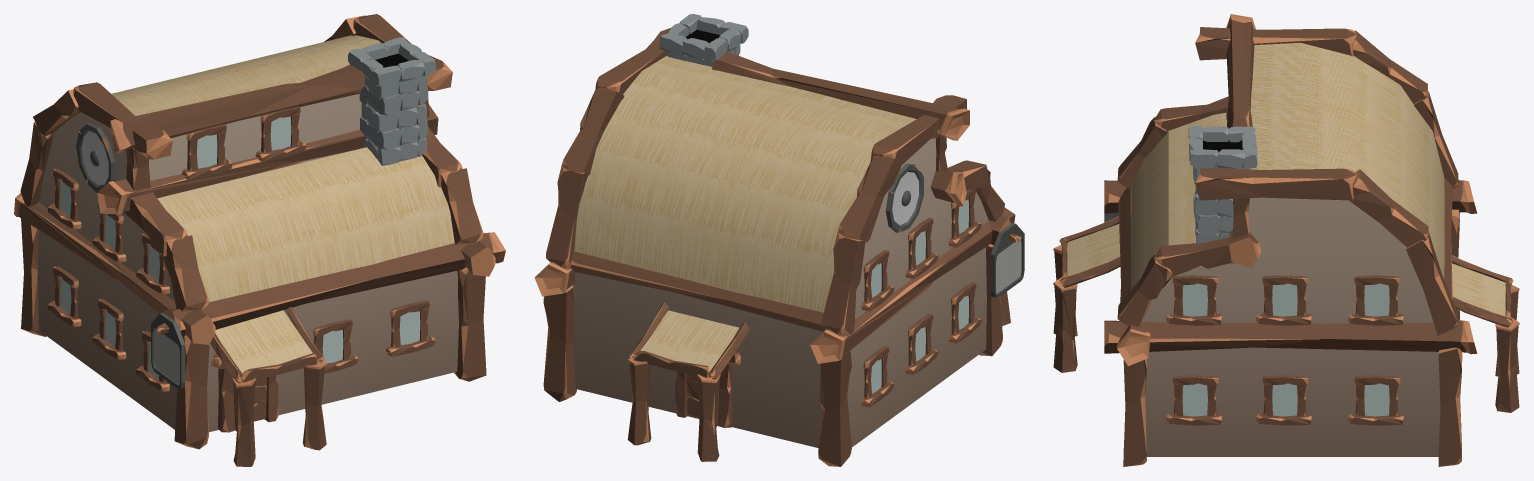
Rendered from Demirci.fbx.
3 renders of one model, left to right at view 1: azimuth 30°, elevation 25°; view 2: azimuth 150°, elevation 25°; view 3: azimuth 270°, elevation 25°, orthographic. The views are drawn at different scales.
Parts seen in each view (by area): view 1: Demirci; view 2: Demirci; view 3: Demirci.
Part boxes in pixels (<box>): Demirci: <box>14,14,505,466</box>; Demirci: <box>534,14,1024,466</box>; Demirci: <box>1053,14,1519,466</box>.
Bounding box in the file's own units: 412 × 344 × 472.
